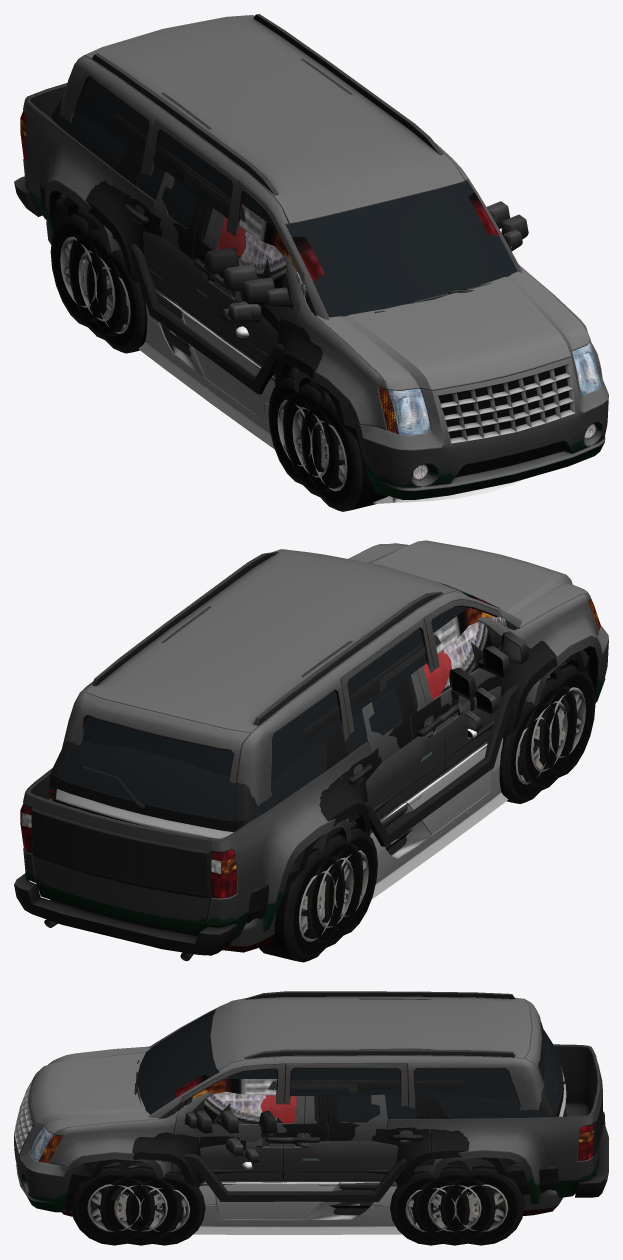
File: cars.glb
3 renders of one model, top to bottom at view 1: azimuth 30°, elevation 25°; view 2: azimuth 150°, elevation 25°; view 3: azimuth 270°, elevation 25°, orthographic. The views are drawn at different scales.
Parts seen in each view (by area): view 1: minivan_body, pickup_body, suv_body, minivan_doorR_minivan_body_part, sport_body, offroad_body, pickup_wheel2, pickup_doorR_pickup_body_part, pickup_wheel0, suv_wheel2, suv_wheel1, sport_doorR_sport_body_part (+5 smaller); view 2: minivan_body, pickup_body, suv_body, offroad_body, pickup_wheel0, minivan_doorR_minivan_body_part, sport_body, pickup_wheel2, pickup_doorR_pickup_body_part, suv_wheel1, suv_wheel2, sport_doorR_sport_body_part (+4 smaller); view 3: minivan_body, pickup_body, suv_body, minivan_doorL_minivan_body_part, sport_body, offroad_body, pickup_doorL_pickup_body_part, pickup_wheel1, pickup_wheel3, sport_doorL_sport_body_part, suv_wheel0, suv_wheel3 (+4 smaller).
Boxes of the visible parts, <box> form: minivan_body: <box>46,14,521,495</box>; pickup_body: <box>14,83,608,499</box>; suv_body: <box>39,58,504,448</box>; minivan_doorR_minivan_body_part: <box>216,198,324,381</box>; sport_body: <box>138,290,523,503</box>; offroad_body: <box>73,113,338,446</box>; pickup_wheel2: <box>301,399,387,511</box>; pickup_doorR_pickup_body_part: <box>221,231,312,389</box>; pickup_wheel0: <box>50,212,111,327</box>; suv_wheel2: <box>283,383,344,496</box>; suv_wheel1: <box>69,228,128,340</box>; sport_doorR_sport_body_part: <box>200,325,275,427</box>; minivan_body: <box>50,549,566,952</box>; pickup_body: <box>14,540,608,961</box>; suv_body: <box>49,606,589,923</box>; offroad_body: <box>302,635,573,888</box>; pickup_wheel0: <box>259,848,345,962</box>; minivan_doorR_minivan_body_part: <box>425,594,520,776</box>; sport_body: <box>370,729,508,899</box>; pickup_wheel2: <box>534,663,595,777</box>; pickup_doorR_pickup_body_part: <box>444,617,535,756</box>; suv_wheel1: <box>301,833,363,947</box>; suv_wheel2: <box>517,677,577,790</box>; sport_doorR_sport_body_part: <box>427,730,503,841</box>; minivan_body: <box>62,991,562,1216</box>; pickup_body: <box>14,1044,608,1212</box>; suv_body: <box>64,998,567,1209</box>; minivan_doorL_minivan_body_part: <box>175,1074,289,1185</box>; sport_body: <box>193,1161,401,1234</box>; offroad_body: <box>99,1080,496,1201</box>; pickup_doorL_pickup_body_part: <box>162,1092,276,1205</box>; pickup_wheel1: <box>438,1166,524,1245</box>; pickup_wheel3: <box>71,1166,157,1245</box>; sport_doorL_sport_body_part: <box>199,1163,309,1222</box>; suv_wheel0: <box>411,1166,497,1245</box>; suv_wheel3: <box>98,1166,183,1245</box>.
Bounding box in the file's own units: 2.33 × 1.98 × 5.83.
Materials: 41 (31 with a texture image).
